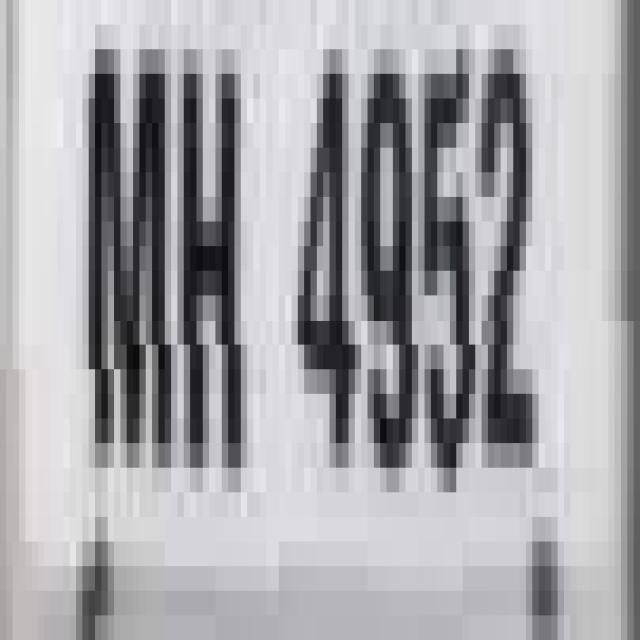license_plate: (0, 0, 602, 615)
